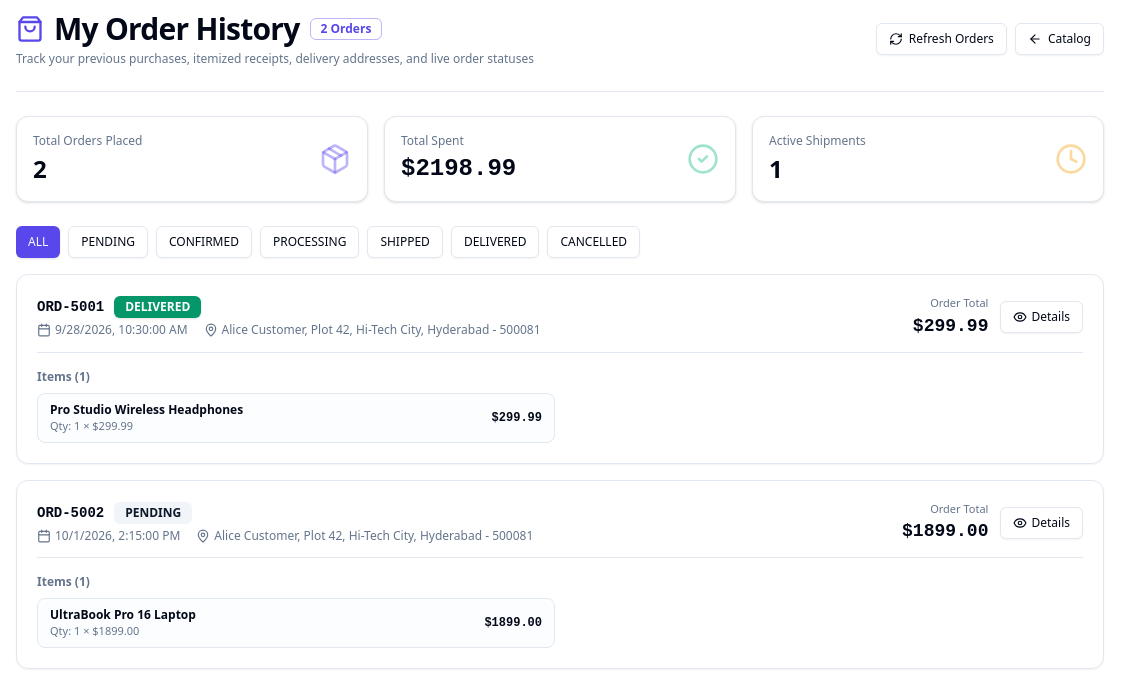
Test: Day 16 — E-Commerce Frontend (Part 2) Comprehensive Test Suite › 3. Order History Page (Customer Orders, Status Filtering & Details Modal) › filters order history list by status when clicking DELIVERED or PENDING filter tabs
Expected: the text "ORD-5001" is shown, x1=37 y1=297 x2=104 y2=317
Click the button "DELIVERED" at (495,242), box x1=451 y1=226 x2=540 y2=258
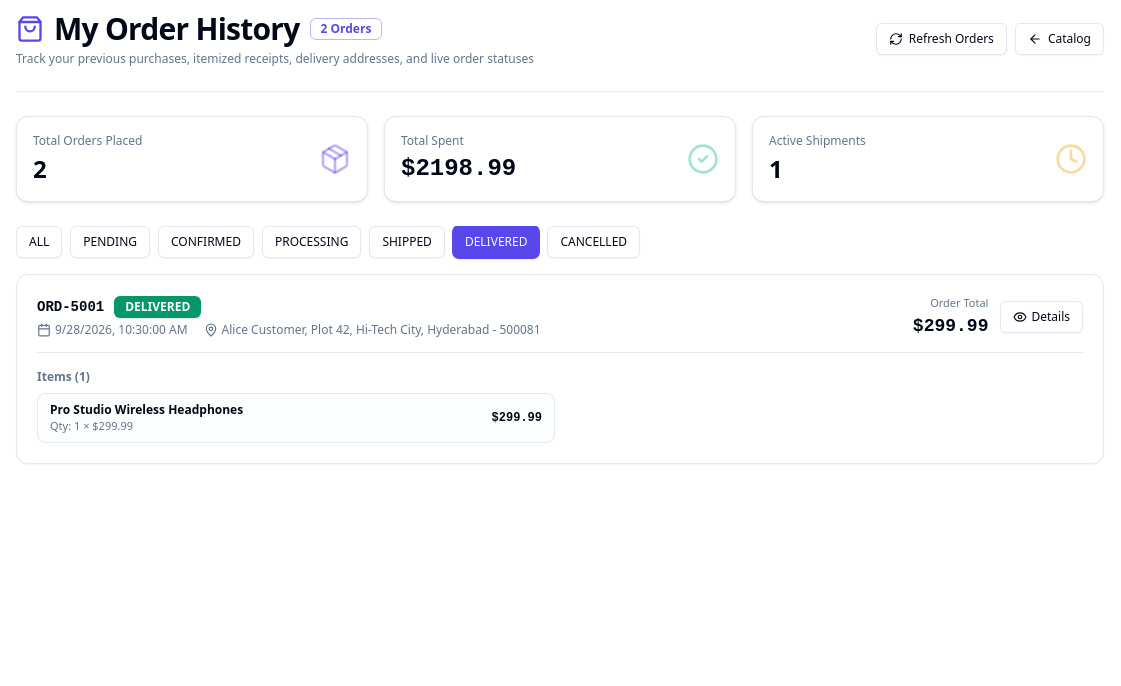
Expected: the text "ORD-5001" is shown, x1=37 y1=297 x2=104 y2=317
Expected: the text "ORD-5002" is gone
